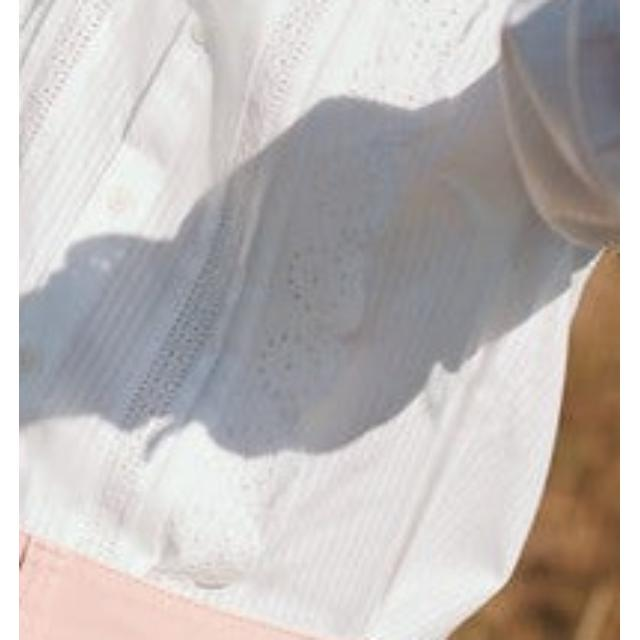cotton: (19, 0, 498, 562)
